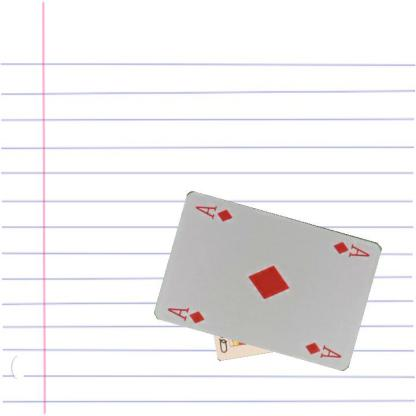Ad: (330, 238, 372, 259), (166, 304, 206, 324)
